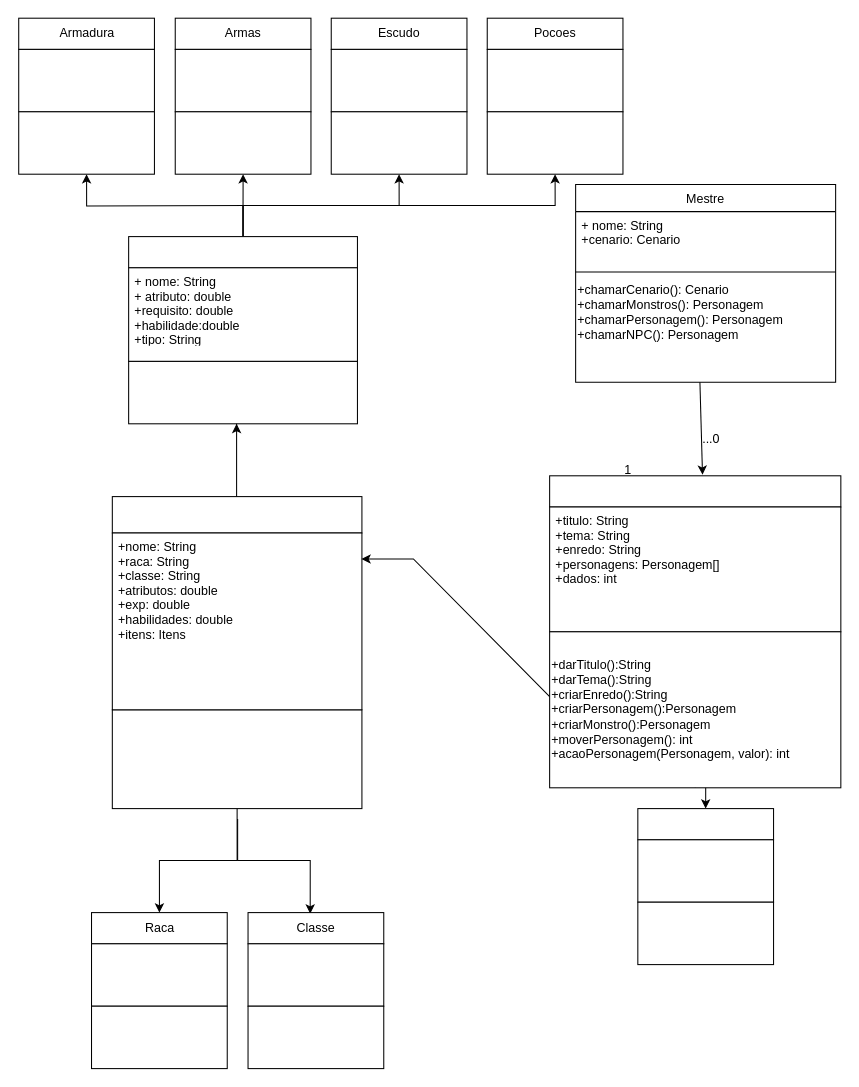
The diagram is 859 pixels wide and 1087 high, and some of its shapes have lost their labels. Here are the shapes that lost their labels. From the top down, the centre of each, then its label:
point 242,252: Itens
point 695,491: Cenário
point 236,514: Personagem
point 236,759: +equiparItens(): boolean +rolarDados(): int
point 705,824: Dados
